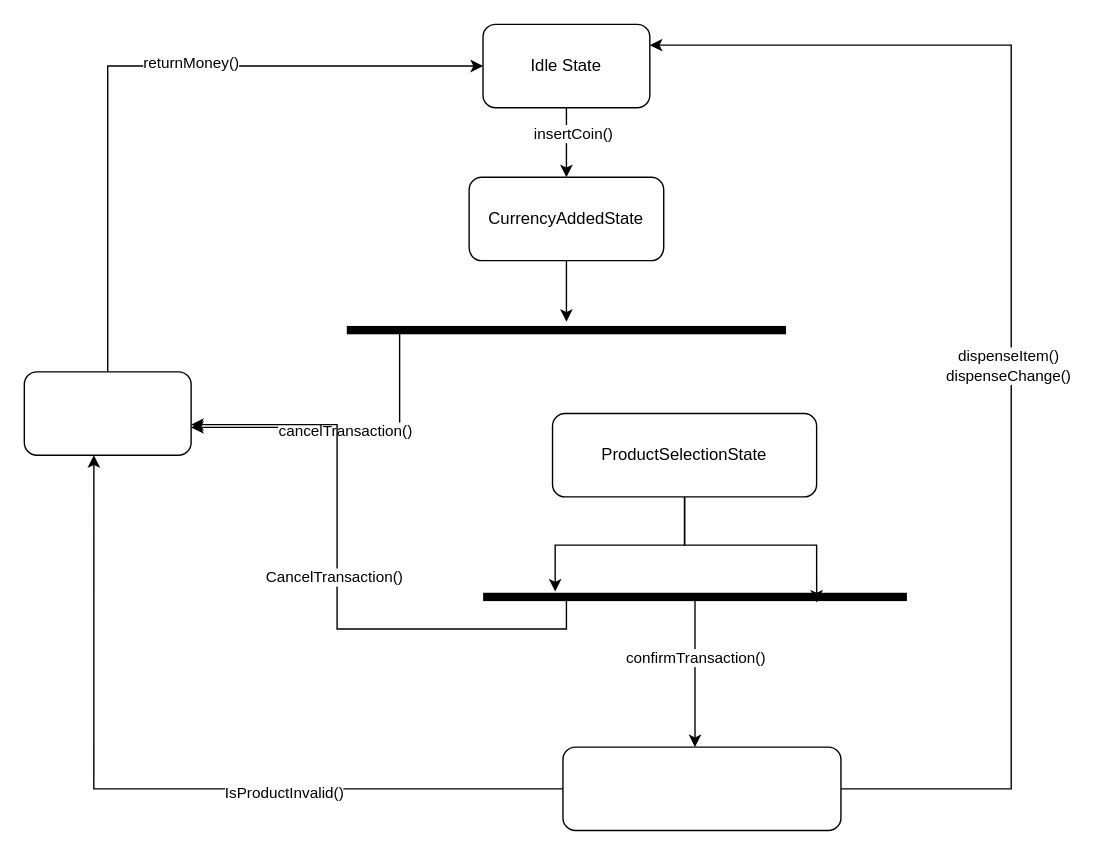
Image size: 1094x855. Some labels were removed from this diagram. Each missing label, with the centre of its shape:
"CancelState" goes at pixel 107 412.
"DispenseState" goes at pixel 701 788.
